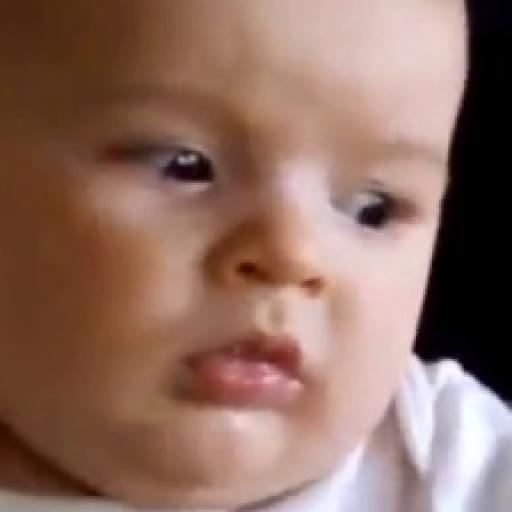Autism: (4, 2, 444, 478)
